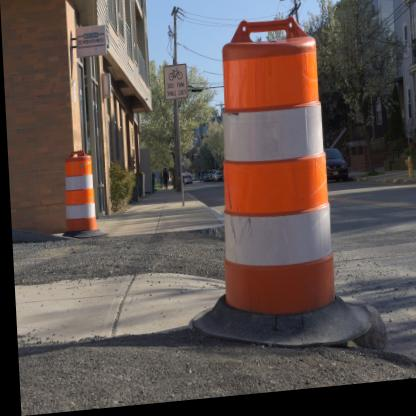obstacle: (207, 25, 338, 330), (62, 150, 96, 238)
